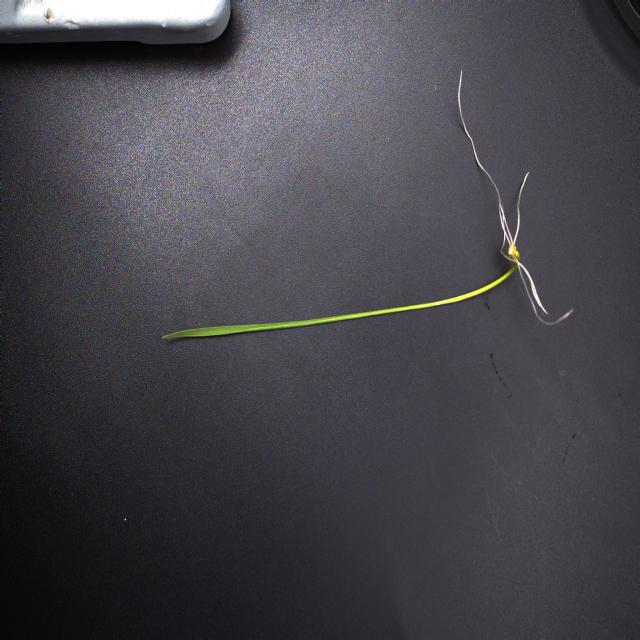leaf: (159, 301, 433, 343)
root: (457, 67, 530, 267)
steb: (433, 264, 519, 309)
